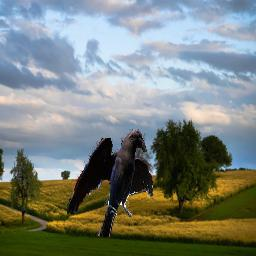Crow: (67, 129, 153, 237)
